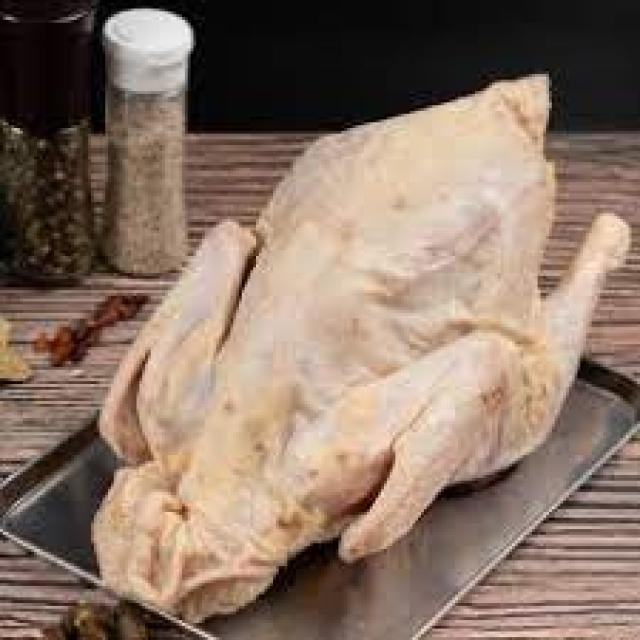chicken: (91, 62, 638, 634)
